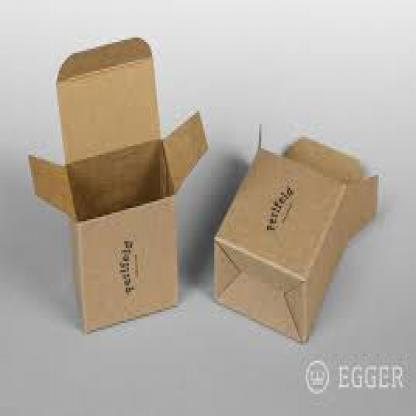CARDBOARD: (28, 35, 206, 330), (211, 122, 376, 343)
